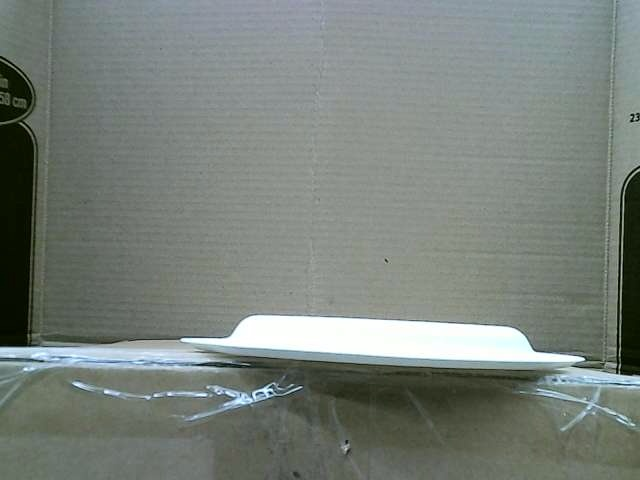Plate: (181, 315, 585, 368)
